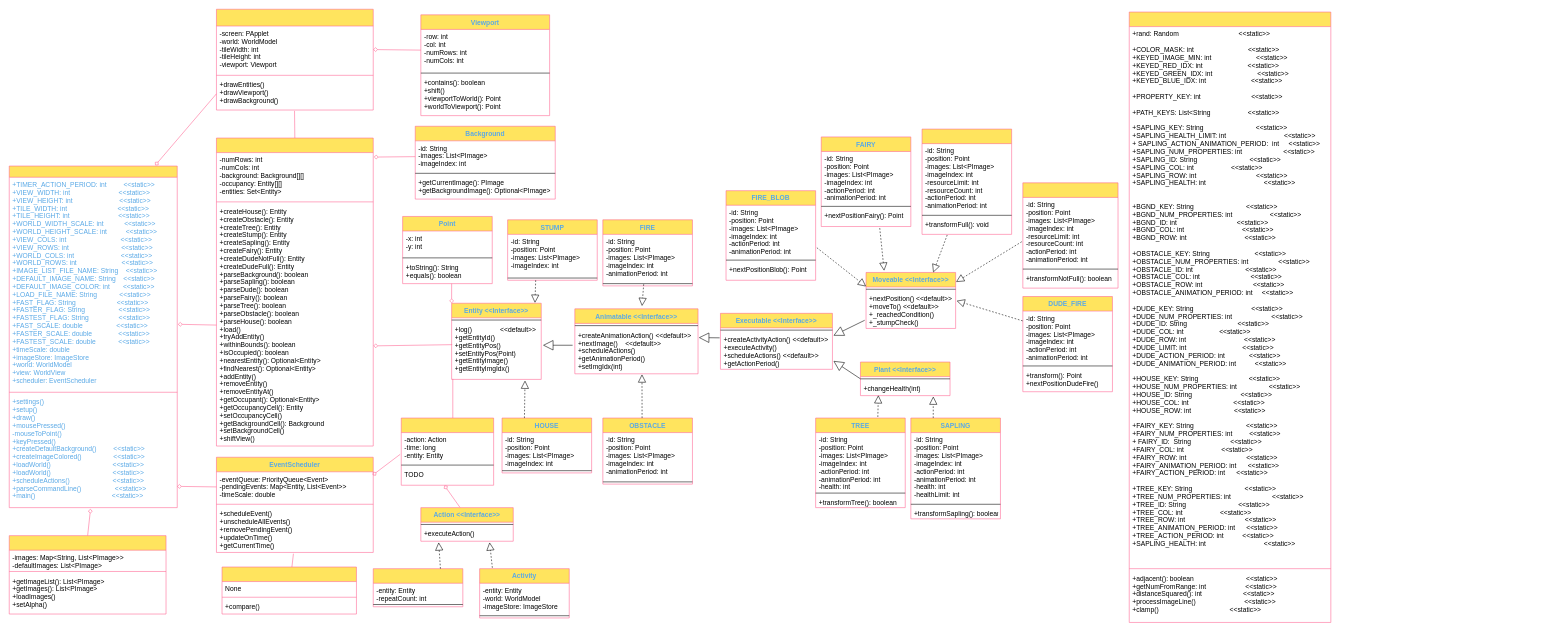
Some shapes in this 1544 by 632 pixel diagram are drawn without their labels. Each missing label, with the box of its shape:
Animation: (373, 568, 463, 607)
DUDE_FULL: (921, 129, 1012, 234)
DUDE_NOT_FULL: (1022, 182, 1118, 288)
Event: (401, 417, 494, 485)
EventComparator: (221, 566, 356, 614)
Functions: (1129, 11, 1331, 622)
ImageStore: (9, 535, 166, 614)
VirtualWorld: (9, 165, 177, 508)
WorldModel: (216, 137, 373, 446)
WorldView: (216, 9, 373, 110)
